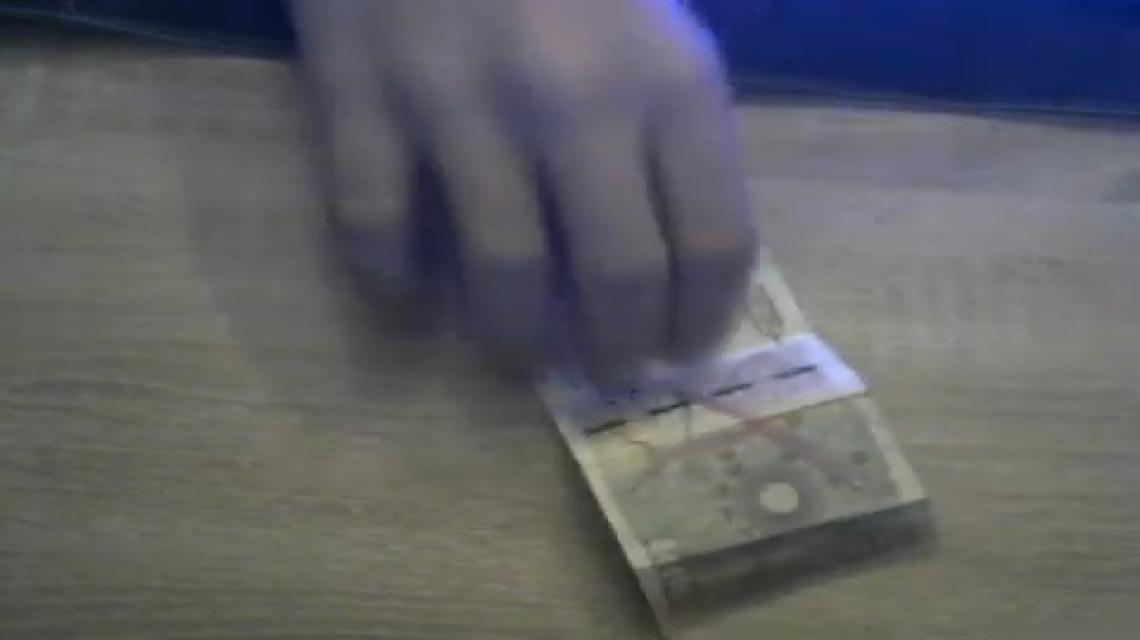10leva: (553, 327, 938, 640)
